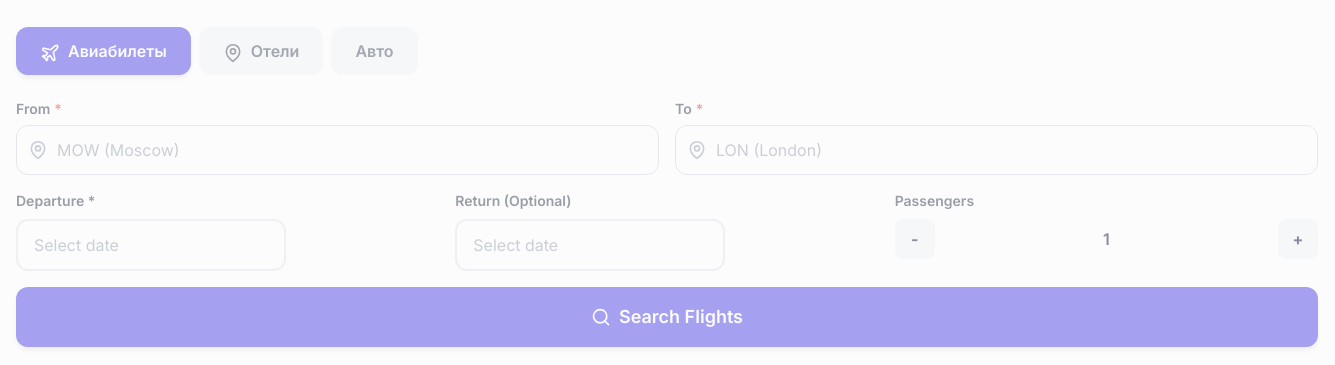
SearchWidget Component › Tab Navigation › shows coming soon message for cars tab
The image size is (1335, 365).
Click the tab "Авто" at (374,51), box top-left (331, 27), bottom-right (418, 75)
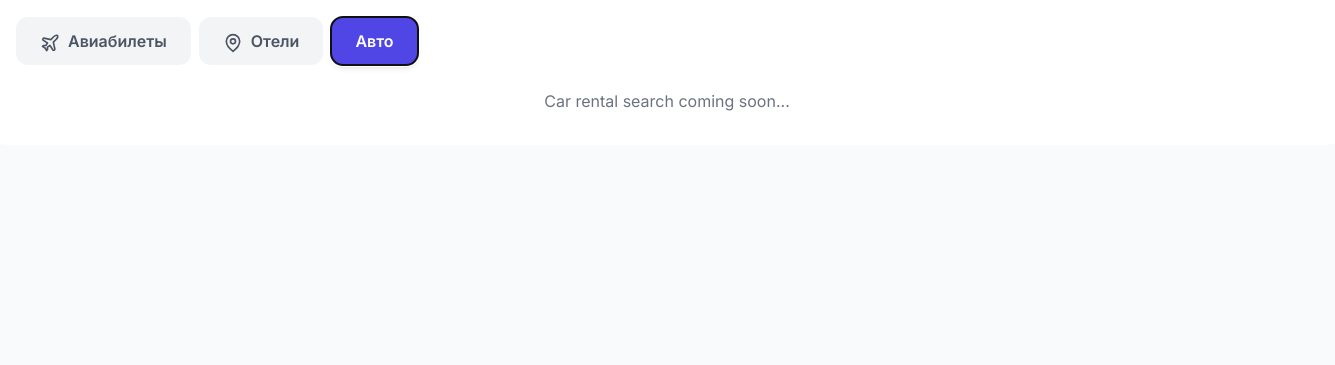
Expected: the text "Car rental search coming soon..." is shown, top-left (544, 91), bottom-right (790, 111)
